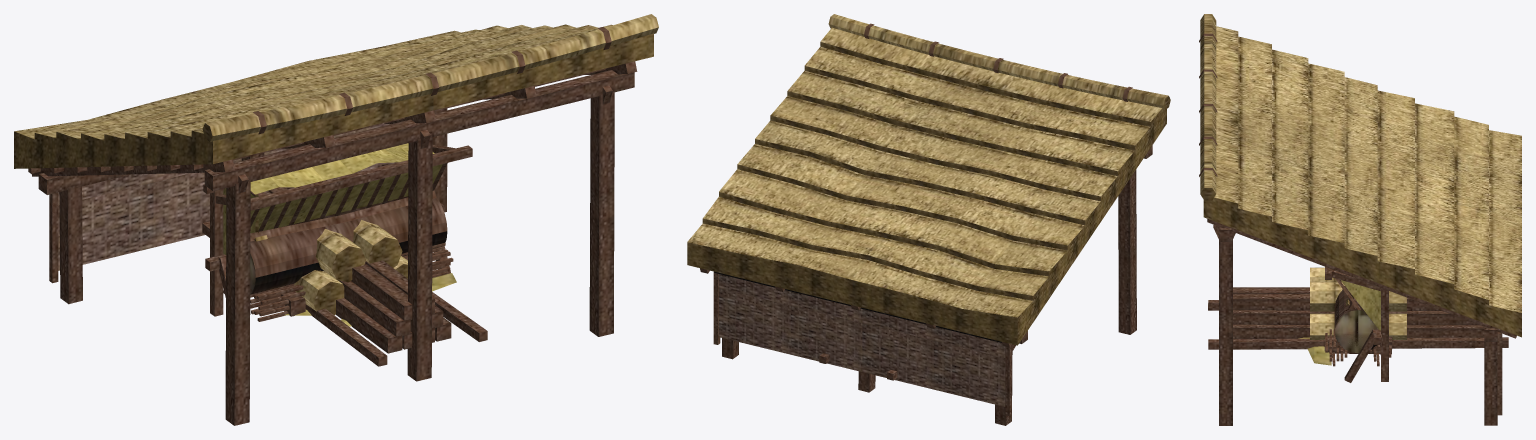
Rendered from pen-construction.glb.
The picture shows the model from 3 angles, left to right: view 1: azimuth 30°, elevation 25°; view 2: azimuth 150°, elevation 25°; view 3: azimuth 270°, elevation 25°; orthographic projection. The views are drawn at different scales.
Visible parts, largest first — view 1: ohrada-posts, ohrada-binding, ohrada-plates, ohrada-wattle-1, ohrada-timber, ohrada-rack, ohrada-hay, ohrada-straw, ohrada-trough-log, ohrada-thatch-3, ohrada-thatch-4, ohrada-thatch-7 (+12 smaller); view 2: ohrada-thatch-1, ohrada-wattle-1, ohrada-thatch-3, ohrada-thatch-4, ohrada-thatch-7, ohrada-thatch-6, ohrada-thatch-2, ohrada-thatch-8, ohrada-thatch-5, ohrada-thatch-9, ohrada-binding, ohrada-wattle-2 (+1 smaller); view 3: ohrada-timber, ohrada-thatch-3, ohrada-thatch-4, ohrada-thatch-7, ohrada-thatch-6, ohrada-thatch-2, ohrada-thatch-8, ohrada-thatch-5, ohrada-thatch-1, ohrada-thatch-9, ohrada-posts, ohrada-binding (+9 smaller).
Boxes of the visible parts, x1,y1,x2,y2 form: ohrada-posts: (59, 85, 614, 425); ohrada-binding: (202, 14, 658, 163); ohrada-plates: (38, 70, 634, 194); ohrada-wattle-1: (49, 108, 447, 283); ohrada-timber: (202, 187, 487, 366); ohrada-rack: (203, 136, 472, 316); ohrada-hay: (223, 143, 456, 326); ohrada-straw: (294, 220, 407, 315); ohrada-trough-log: (250, 196, 447, 289); ohrada-thatch-3: (56, 25, 507, 167); ohrada-thatch-4: (81, 25, 532, 167); ohrada-thatch-7: (147, 25, 598, 165); ohrada-thatch-1: (687, 218, 1033, 345); ohrada-wattle-1: (713, 287, 1011, 416); ohrada-thatch-3: (719, 164, 1067, 297); ohrada-thatch-4: (737, 139, 1085, 270); ohrada-thatch-7: (788, 66, 1134, 195); ohrada-thatch-6: (770, 91, 1117, 221); ohrada-thatch-2: (703, 192, 1049, 321); ohrada-thatch-8: (804, 42, 1150, 170); ohrada-thatch-5: (755, 115, 1100, 244); ohrada-thatch-9: (820, 27, 1166, 146); ohrada-binding: (828, 14, 1170, 109); ohrada-wattle-2: (713, 271, 1011, 366); ohrada-timber: (1208, 287, 1508, 349); ohrada-thatch-3: (1415, 103, 1454, 311); ohrada-thatch-4: (1377, 90, 1414, 296); ohrada-thatch-7: (1272, 49, 1308, 256); ohrada-thatch-6: (1308, 63, 1344, 270); ohrada-thatch-2: (1454, 116, 1488, 324); ohrada-thatch-8: (1238, 36, 1271, 242); ohrada-thatch-5: (1344, 77, 1377, 282); ohrada-thatch-1: (1489, 130, 1521, 337); ohrada-thatch-9: (1203, 26, 1238, 229); ohrada-posts: (1213, 225, 1497, 425); ohrada-binding: (1199, 14, 1217, 200).
Size of the model in its own units: 4.66 by 3.14 by 3.65.
Materials: 2 (2 with a texture image).
